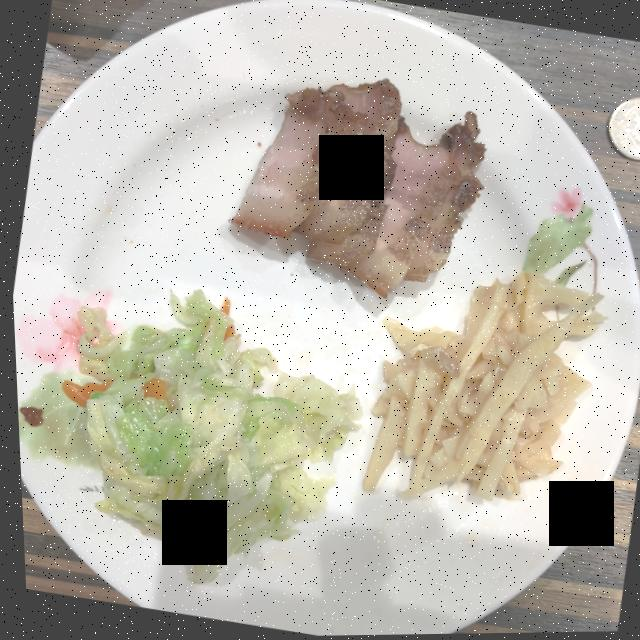cabbage: (76, 290, 358, 583)
coin: (606, 99, 640, 162)
red grilled pork: (230, 80, 483, 298)
